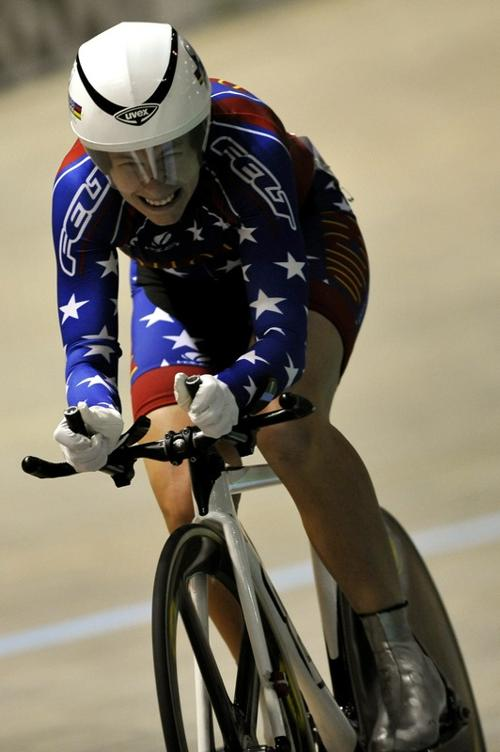person: (52, 19, 469, 749)
